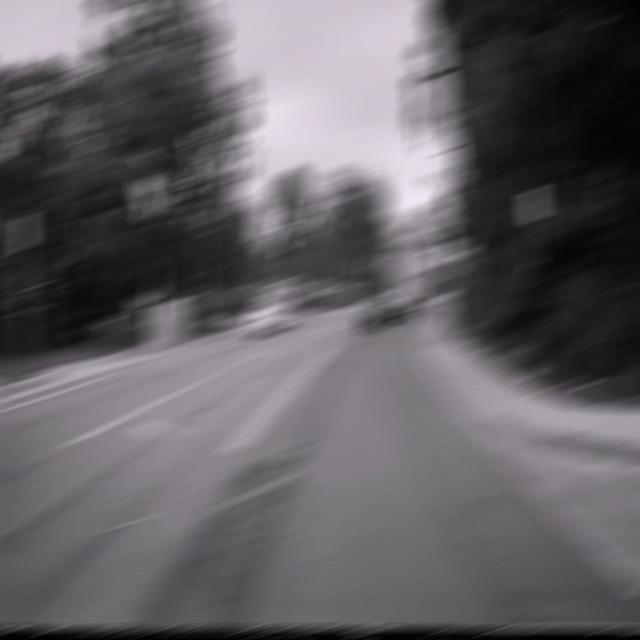speedLimit25: (443, 243, 464, 277)
